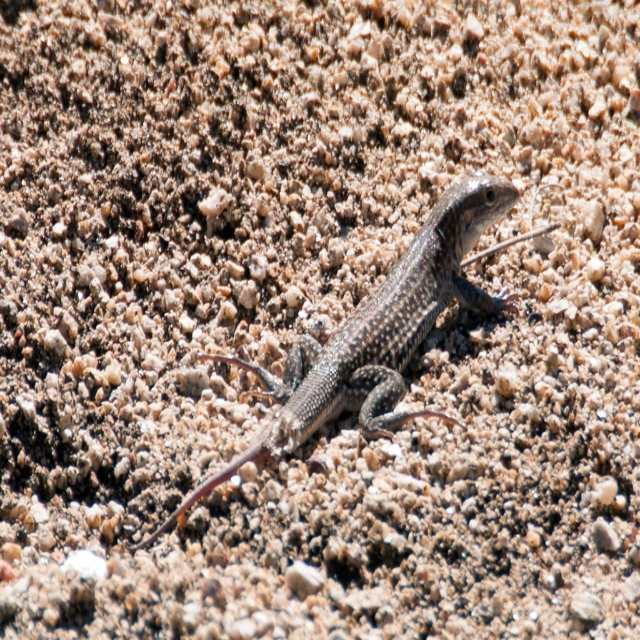Lizard: (128, 176, 520, 547)
